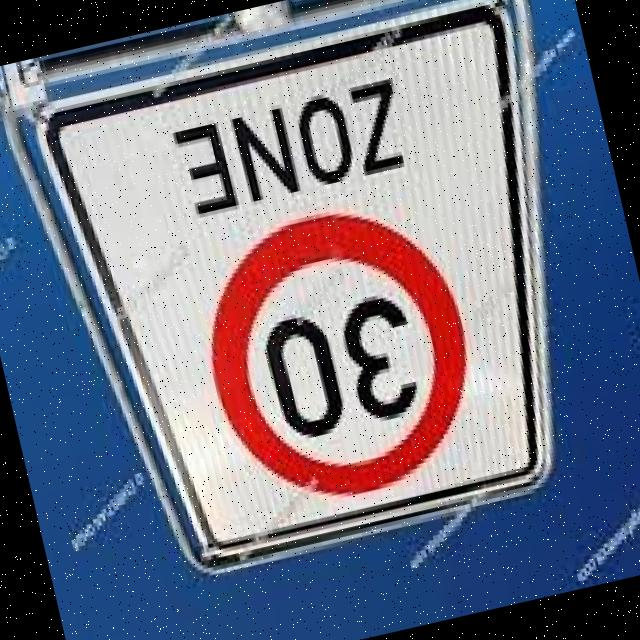speed_limit_30: (176, 180, 495, 527)
